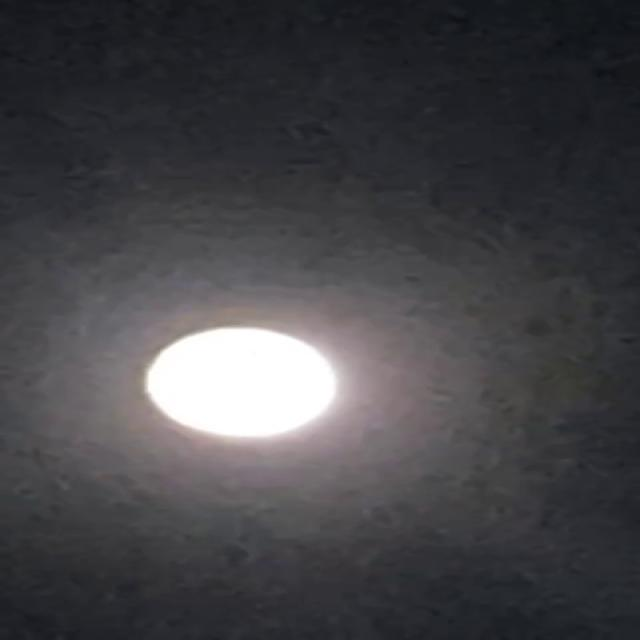moon: (123, 304, 361, 448)
